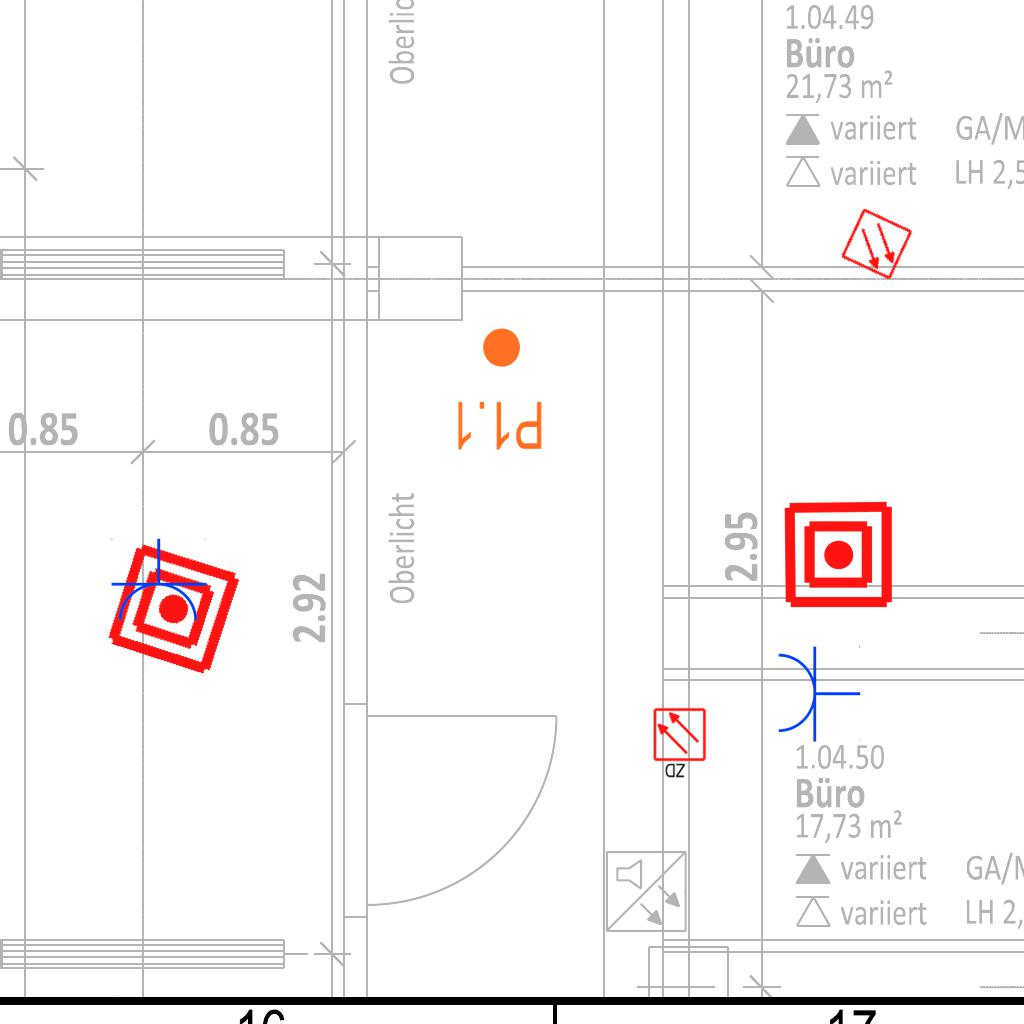Downlight_LED_Einbauleuchten_Flur: (452, 325, 545, 453)
NAM-Nichtautomatischer_Melder: (102, 537, 245, 680), (782, 498, 895, 611)
RMO_Rauchmelder_optischer: (839, 206, 915, 282)
Schukosteckdose_einfach: (774, 643, 861, 743), (108, 538, 208, 625)
ZD_Melder_in_Zwischendecke_mit_Revisionsoeffnung_mind_40_x_40_cm: (652, 707, 709, 781)
